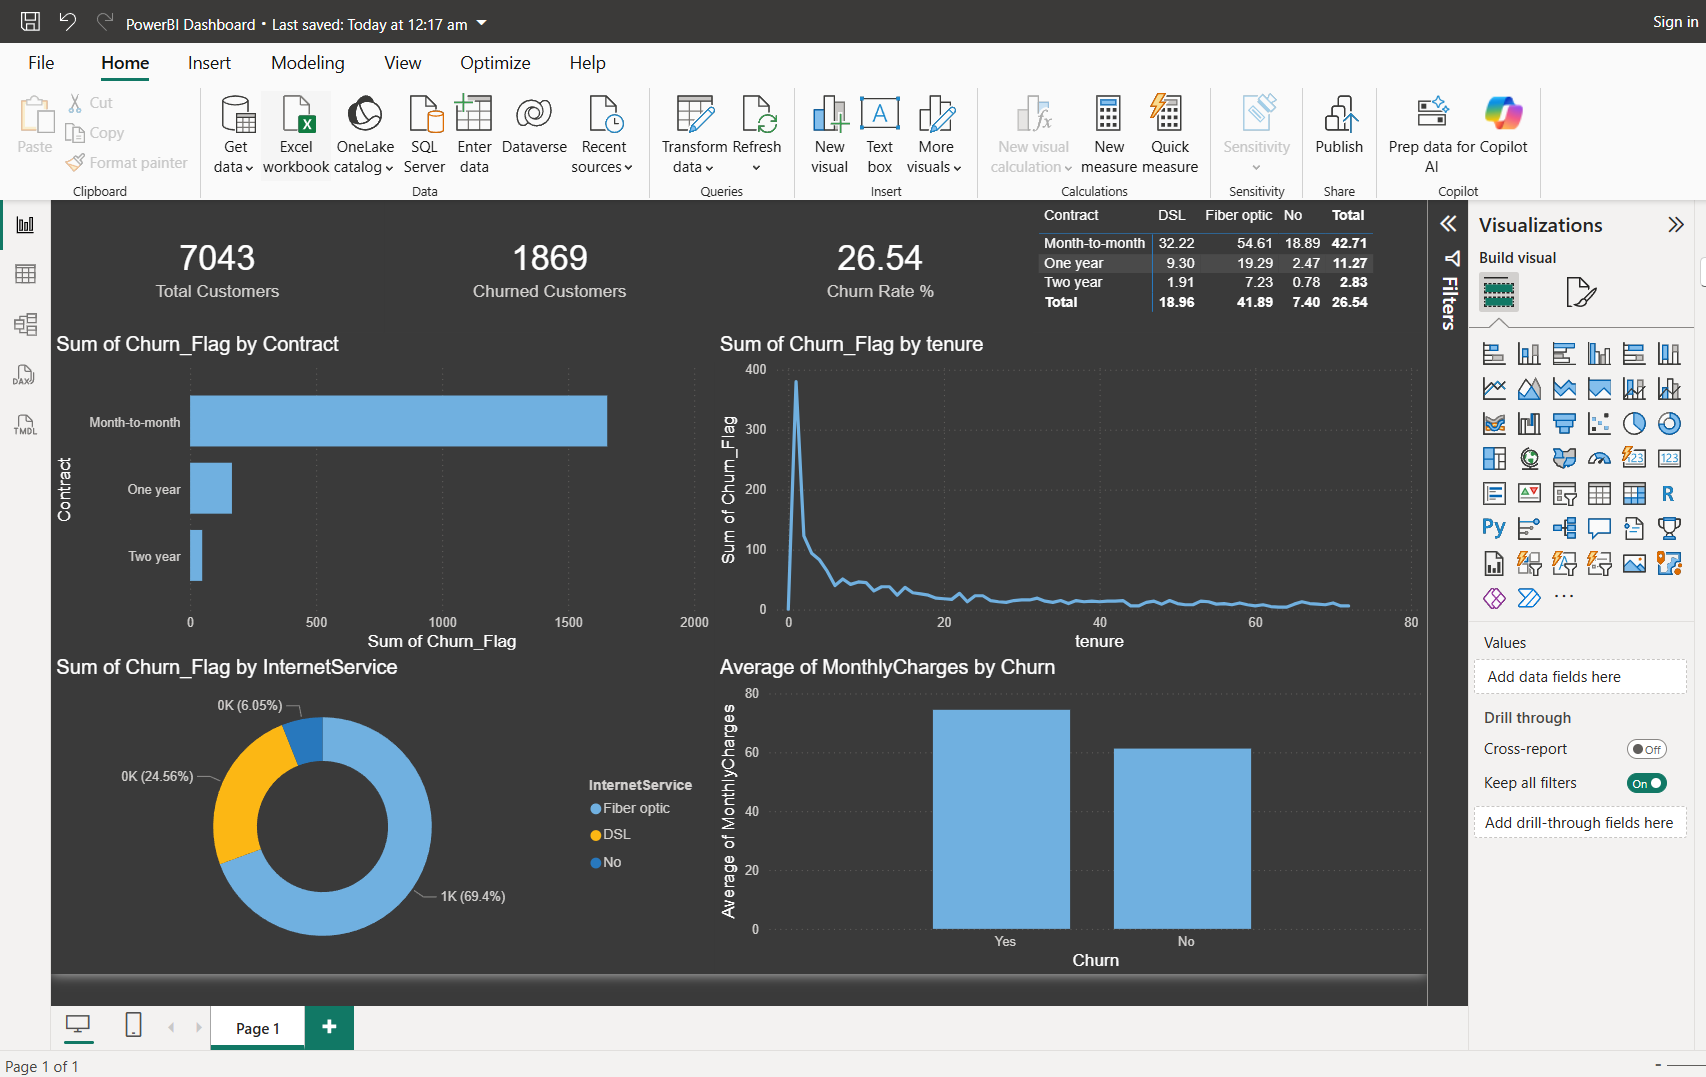

This screenshot's page, from the dashboard's own definition file:
{"tool":"powerbi","page":{"name":"Page 1","canvas":[1280,720],"ordinal":0},"visuals":[{"type":"card","fields":{"Values":["Teleco_PowerBI.Total Customers"]},"box":[0,0,310.1,123.5],"z":0},{"type":"card","fields":{"Values":["Teleco_PowerBI.Churned Customers"]},"box":[310.1,0,307.4,123.5],"z":1},{"type":"card","fields":{"Values":["Teleco_PowerBI.Churn Rate %"]},"box":[639.5,0,264.8,123.5],"z":2},{"type":"clusteredBarChart","fields":{"Y":["Sum(Teleco_PowerBI.Churn_Flag)"],"Category":["Teleco_PowerBI.Contract"]},"box":[0,123.5,617.5,300.5],"z":3},{"type":"donutChart","fields":{"Category":["Teleco_PowerBI.InternetService"],"Y":["Sum(Teleco_PowerBI.Churn_Flag)"]},"box":[0,424,617.5,296.4],"z":4},{"type":"lineChart","fields":{"Category":["Teleco_PowerBI.tenure"],"Y":["Sum(Teleco_PowerBI.Churn_Flag)"]},"box":[617.5,123.5,662.8,300.5],"z":5},{"type":"clusteredColumnChart","fields":{"Y":["Avg(Teleco_PowerBI.MonthlyCharges)"],"Category":["Teleco_PowerBI.Churn"]},"box":[617.5,424,662.8,296.4],"z":6},{"type":"pivotTable","fields":{"Rows":["Teleco_PowerBI.Contract"],"Columns":["Teleco_PowerBI.InternetService"],"Values":["Teleco_PowerBI.Churn Rate %"]},"box":[913.9,0,366.4,123.5],"z":7}]}

Visuals, with their boxes on the page's 1280x720 design canvas (x1, y1, x2, y2). These are canvas units, not pixel positions in the 1706x1077 screenshot, which may show the page scaled, cropped or inside an application window:
card - Teleco_PowerBI.Total Customers: select_region(0, 0, 310, 124)
card - Teleco_PowerBI.Churned Customers: select_region(310, 0, 618, 124)
card - Teleco_PowerBI.Churn Rate %: select_region(640, 0, 904, 124)
clusteredBarChart - Sum(Teleco_PowerBI.Churn_Flag) x Teleco_PowerBI.Contract: select_region(0, 124, 618, 424)
donutChart - Teleco_PowerBI.InternetService x Sum(Teleco_PowerBI.Churn_Flag): select_region(0, 424, 618, 720)
lineChart - Teleco_PowerBI.tenure x Sum(Teleco_PowerBI.Churn_Flag): select_region(618, 124, 1280, 424)
clusteredColumnChart - Avg(Teleco_PowerBI.MonthlyCharges) x Teleco_PowerBI.Churn: select_region(618, 424, 1280, 720)
pivotTable - Teleco_PowerBI.Contract x Teleco_PowerBI.InternetService: select_region(914, 0, 1280, 124)
